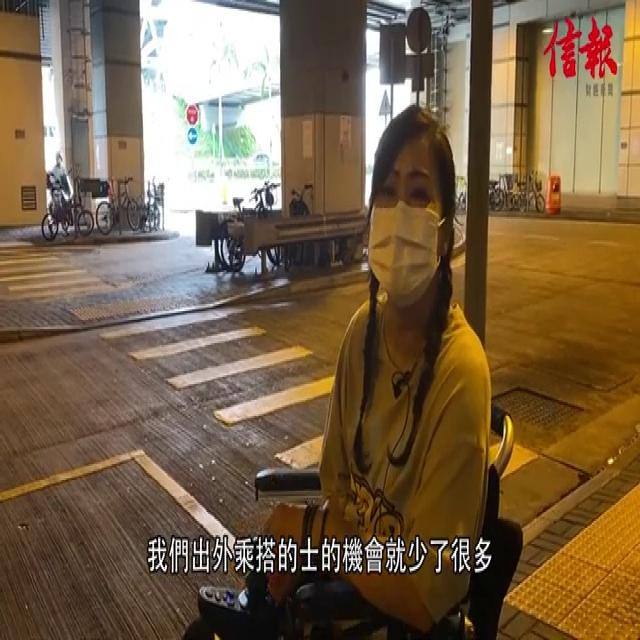wheelchairs: (191, 396, 533, 640)
